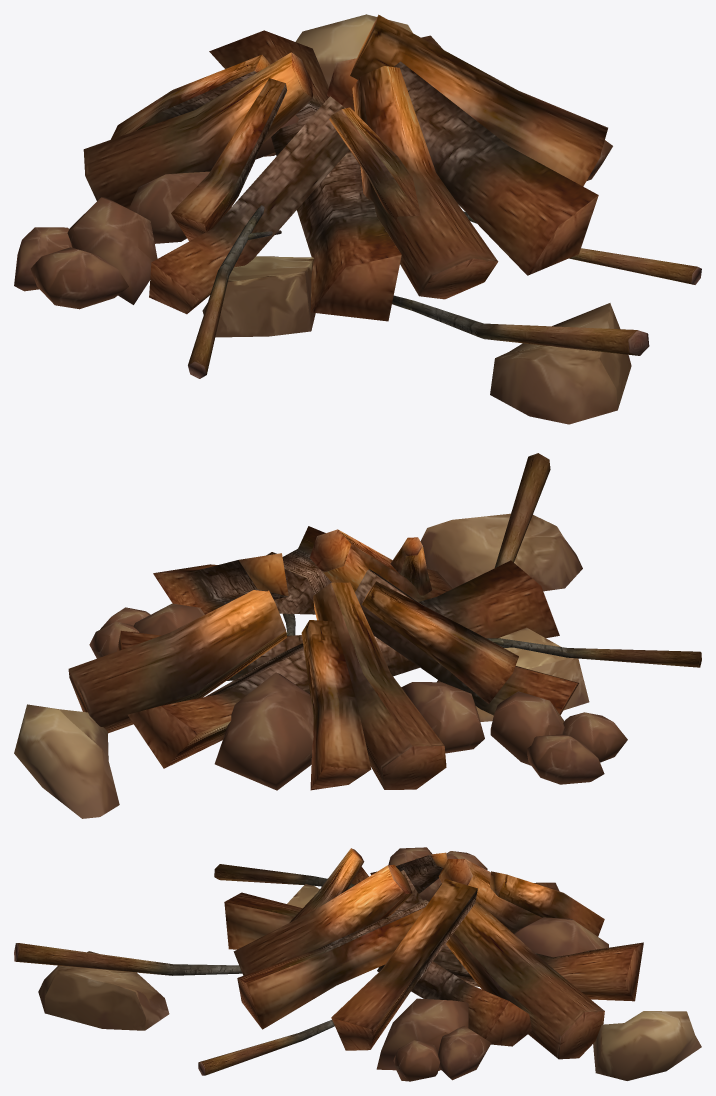
Rendered from fireheap.obj.
The picture shows the model from 3 angles, top to bottom: view 1: azimuth 30°, elevation 25°; view 2: azimuth 150°, elevation 25°; view 3: azimuth 270°, elevation 25°; orthographic projection. The views are drawn at different scales.
Visible parts, largest first — view 1: Gouhuo; view 2: Gouhuo; view 3: Gouhuo.
Boxes of the visible parts, box(x1,y1,x2,y2) form: Gouhuo: box(14, 14, 701, 424); Gouhuo: box(14, 453, 701, 818); Gouhuo: box(14, 847, 701, 1081).
Bounding box in the file's own units: 39.96 × 13.04 × 53.58.
Materials: 1 (1 with a texture image).
